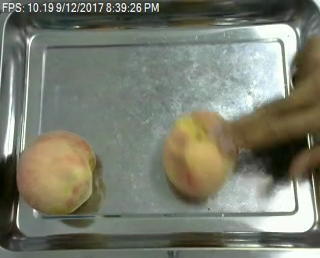Peach: (16, 128, 97, 216), (162, 109, 237, 199)
